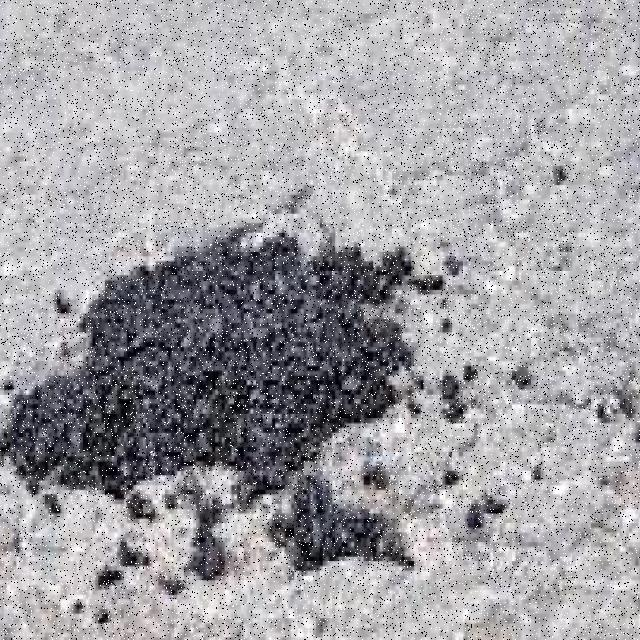pothole: (0, 228, 440, 580)
